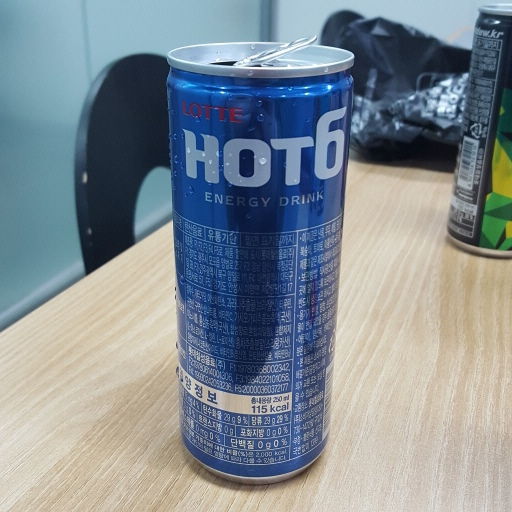Metal_0: (157, 40, 354, 486)
